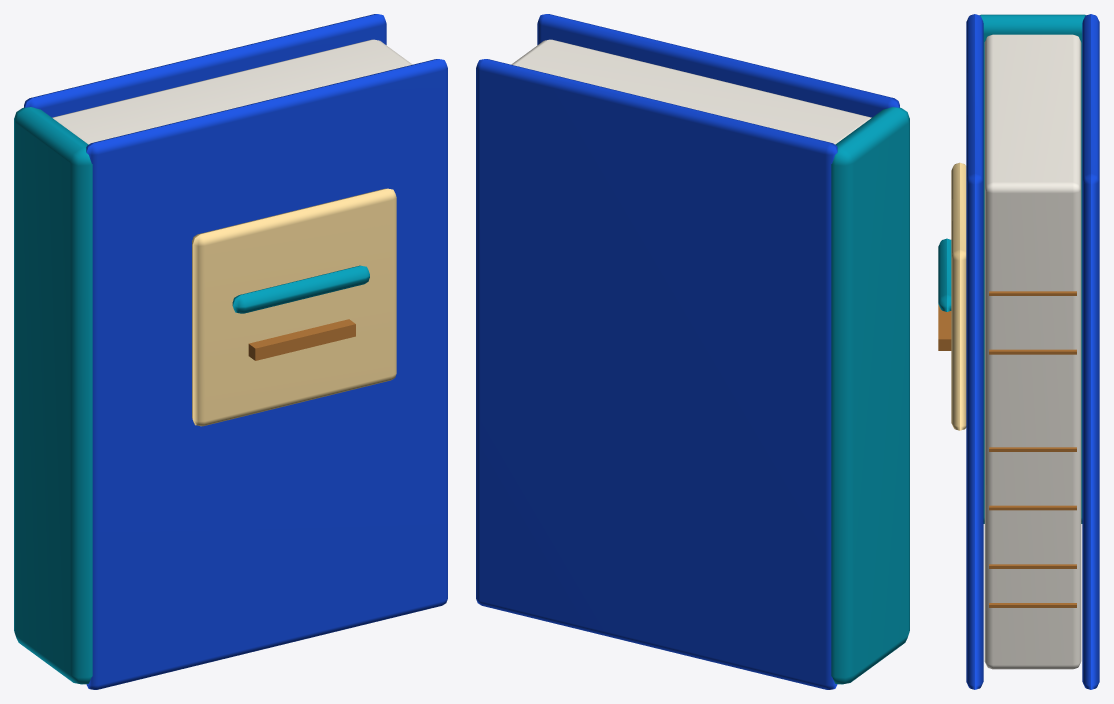
File: 15_Book.glb
The picture shows the model from 3 angles, left to right: view 1: azimuth 30°, elevation 25°; view 2: azimuth 150°, elevation 25°; view 3: azimuth 270°, elevation 25°; orthographic projection. The views are drawn at different scales.
Visible parts, largest first — view 1: 15_Book_EXPORT; view 2: 15_Book_EXPORT; view 3: 15_Book_EXPORT.
Boxes of the visible parts, x1,y1,x2,y2 form: 15_Book_EXPORT: (14, 14, 447, 689); 15_Book_EXPORT: (476, 14, 909, 689); 15_Book_EXPORT: (938, 14, 1099, 689).
Size of the model in its own units: 0.379 by 0.549 by 0.15.
